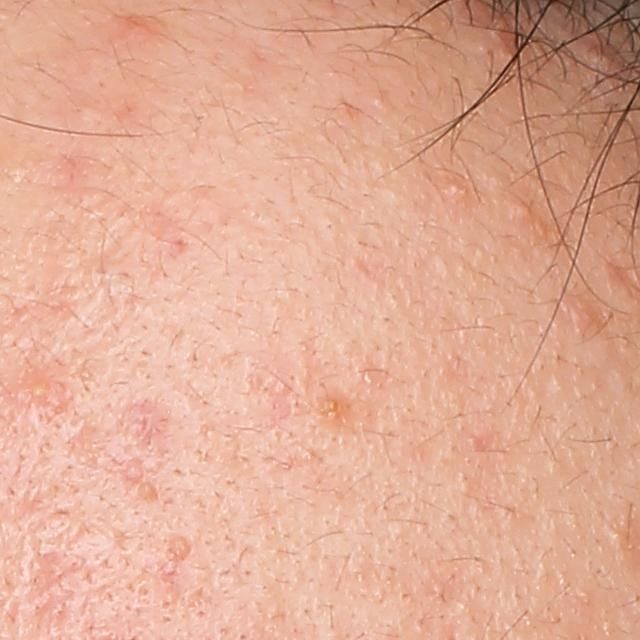comedo: (136, 481, 156, 499), (608, 528, 625, 547), (361, 367, 377, 386)
papule: (561, 294, 598, 333), (122, 15, 153, 39)
